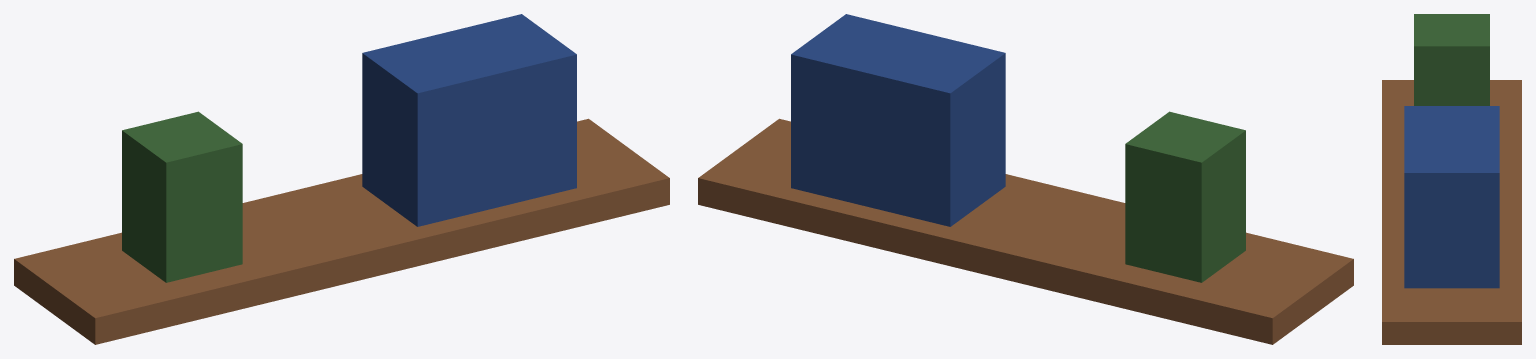
The model's file is shelf.glb.
The picture shows the model from 3 angles, left to right: view 1: azimuth 30°, elevation 25°; view 2: azimuth 150°, elevation 25°; view 3: azimuth 270°, elevation 25°; orthographic projection. The views are drawn at different scales.
Visible parts, largest first — view 1: shelf; view 2: shelf; view 3: shelf.
Part boxes in pixels (x1,y1,x2,y2): shelf: (14,14,669,344); shelf: (698,14,1353,344); shelf: (1382,14,1521,344).
Size of the model in its own units: 0.9 by 0.24 by 0.22.
